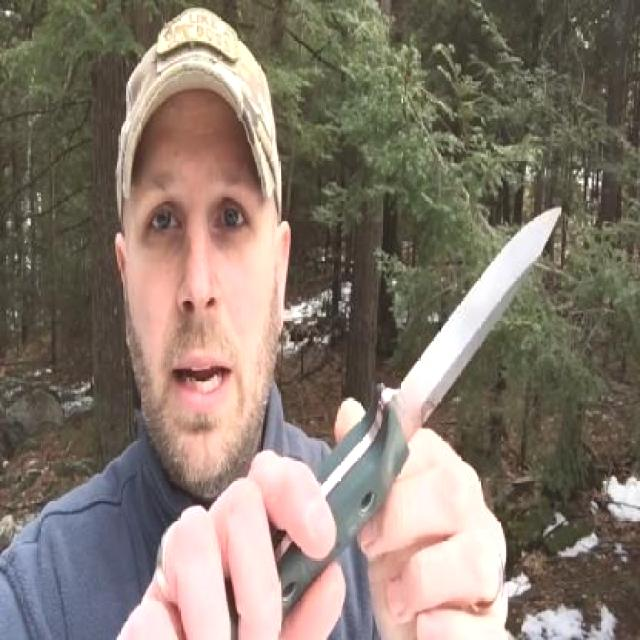knife: (289, 197, 571, 572)
